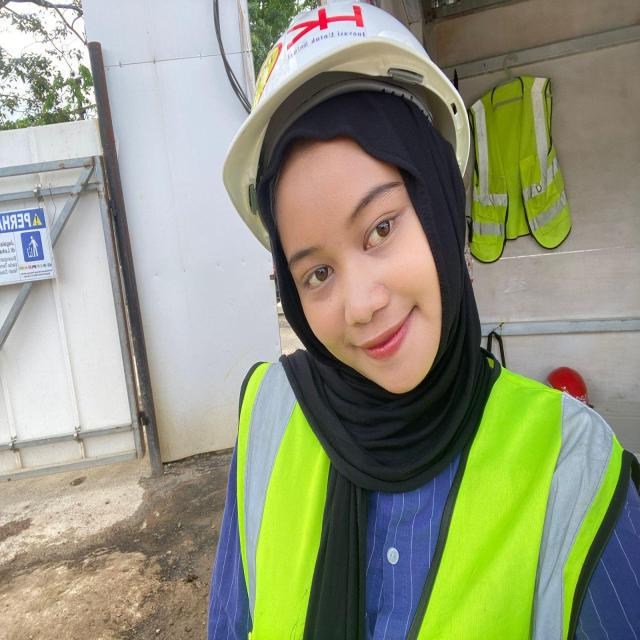safetyhelmet: (219, 1, 476, 352)
